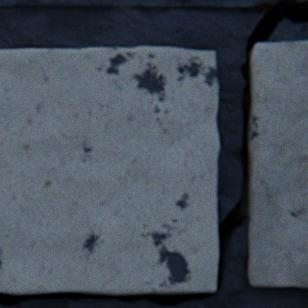brick: (0, 47, 218, 294), (247, 42, 307, 288)
broken_brick: (223, 5, 270, 11), (60, 7, 103, 9), (0, 7, 46, 8), (188, 8, 220, 9), (124, 8, 142, 9)
crack: (0, 0, 307, 307)
